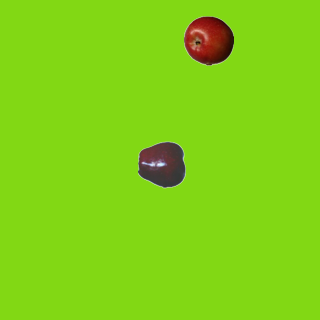Apple Braeburn: (183, 15, 233, 65)
Apple Red Delicious: (137, 139, 187, 189)
